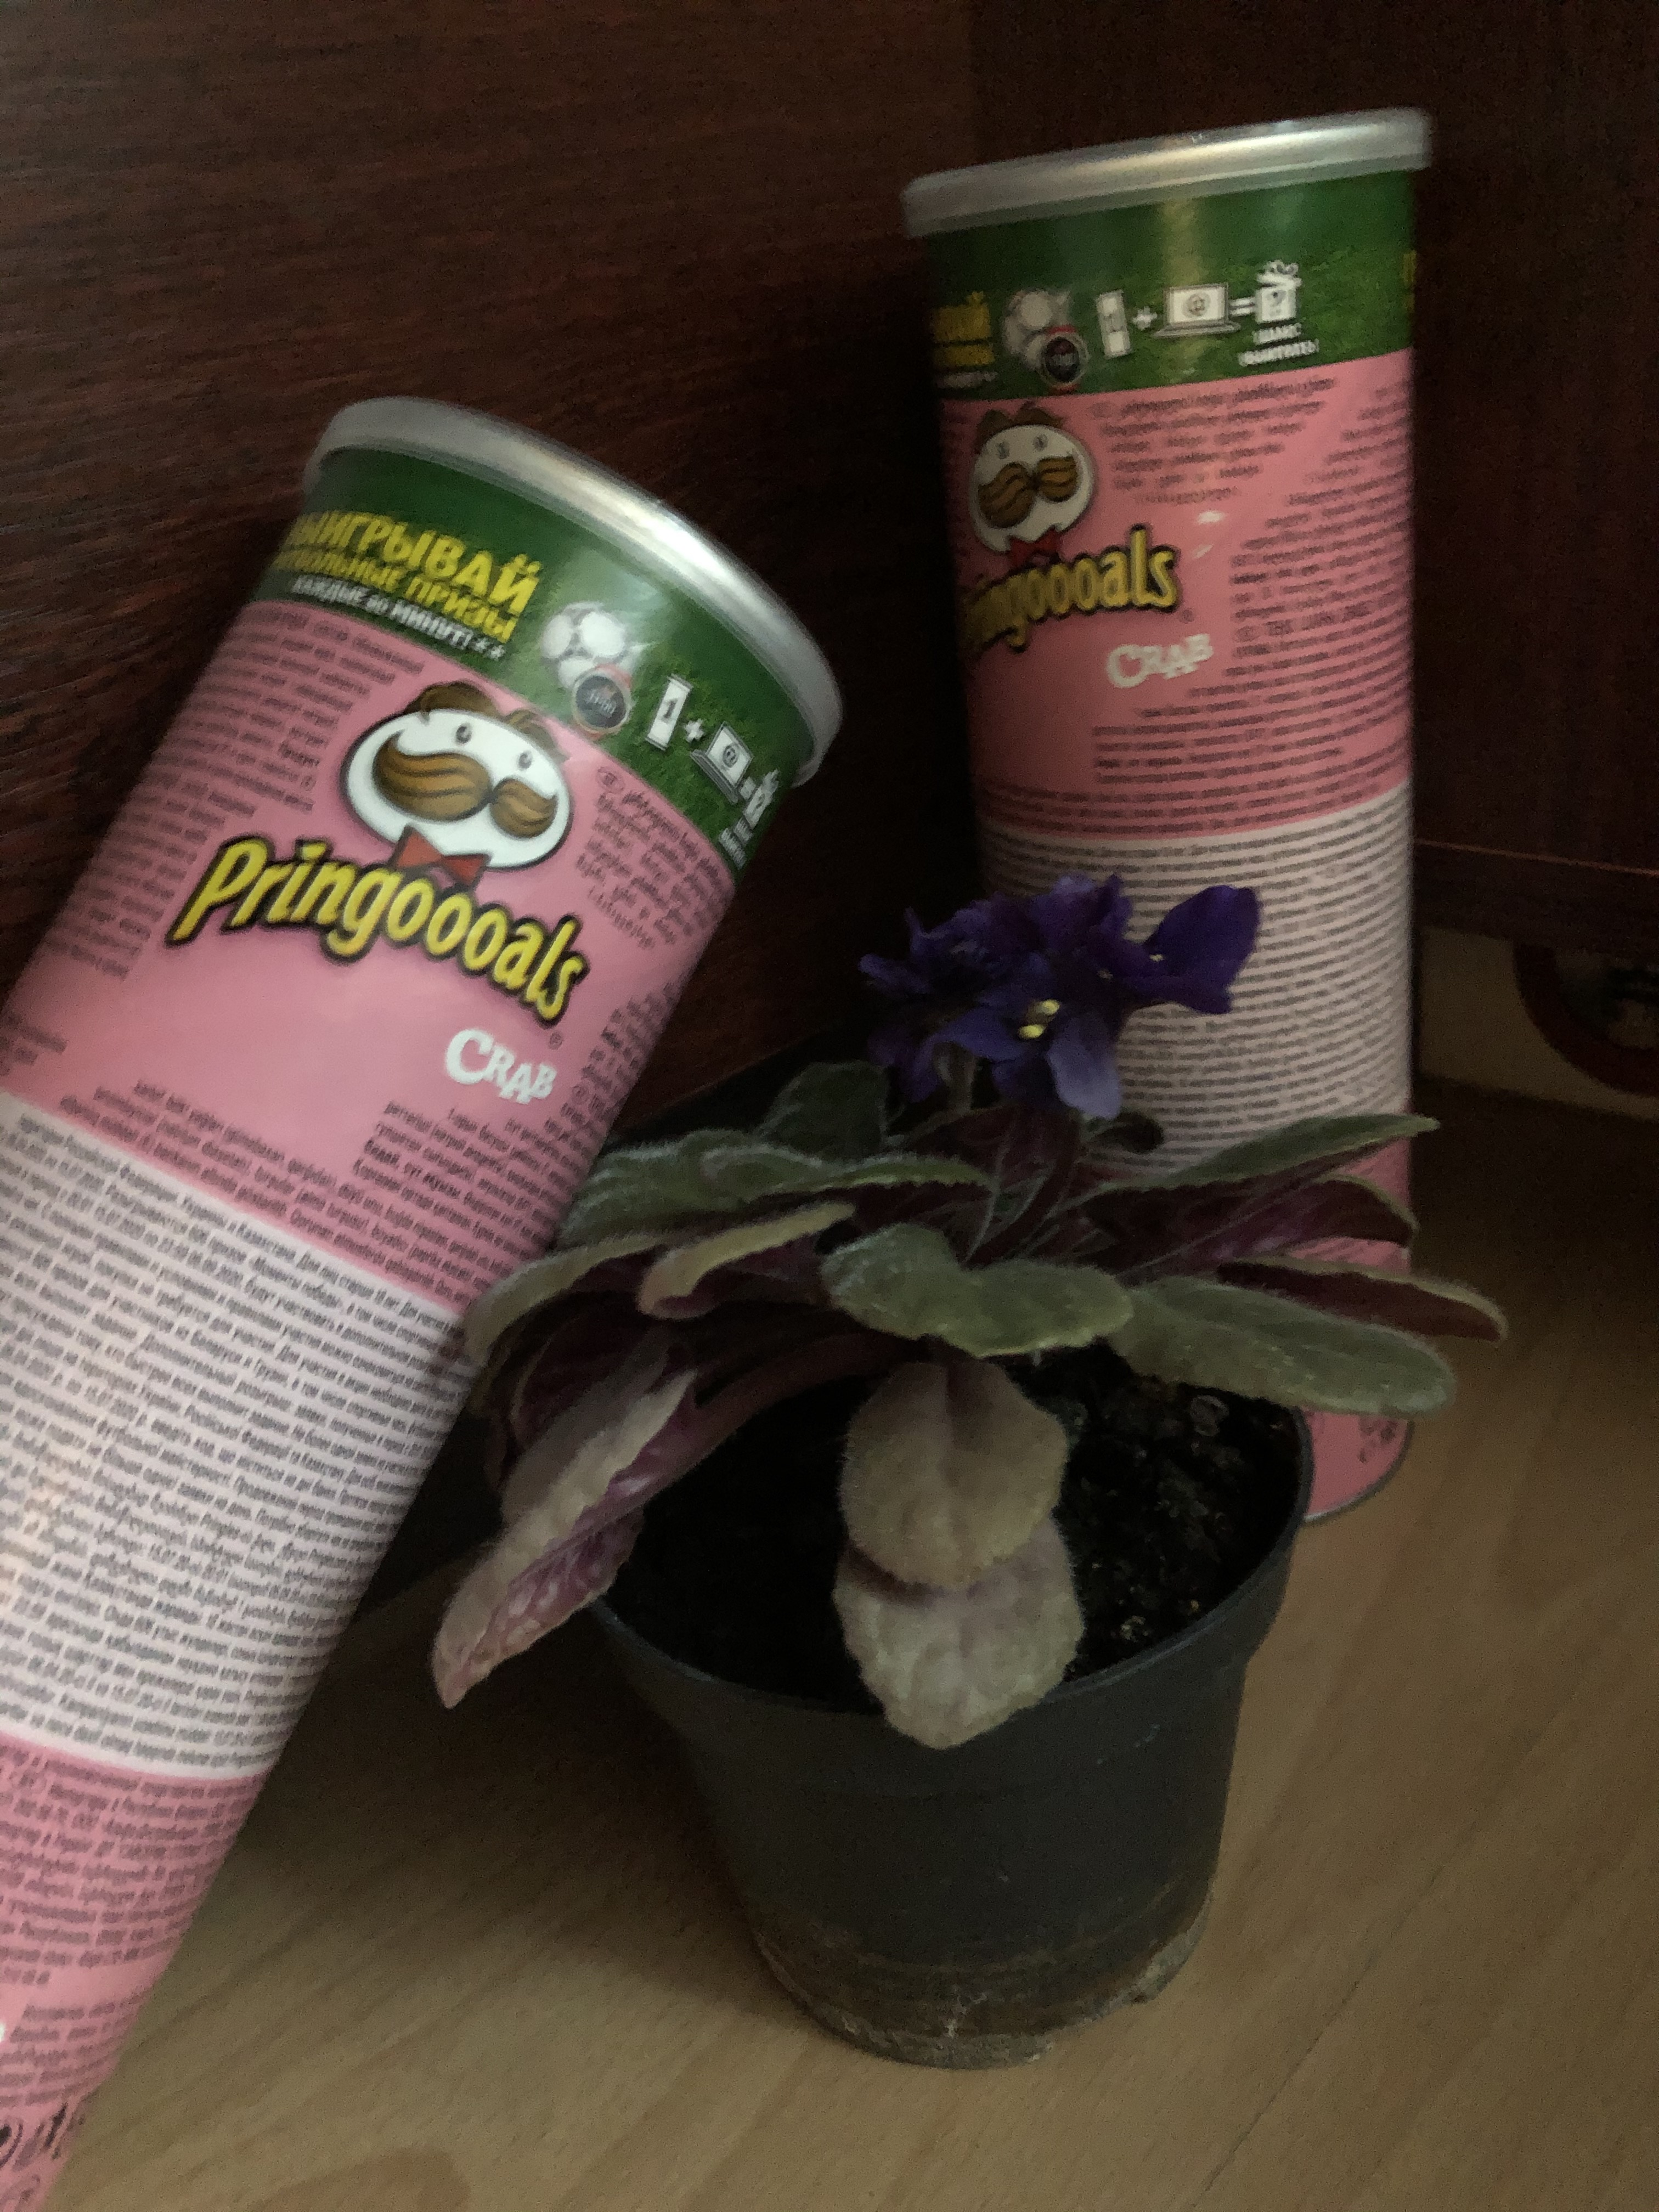ignore: (425, 862, 1492, 1737)
